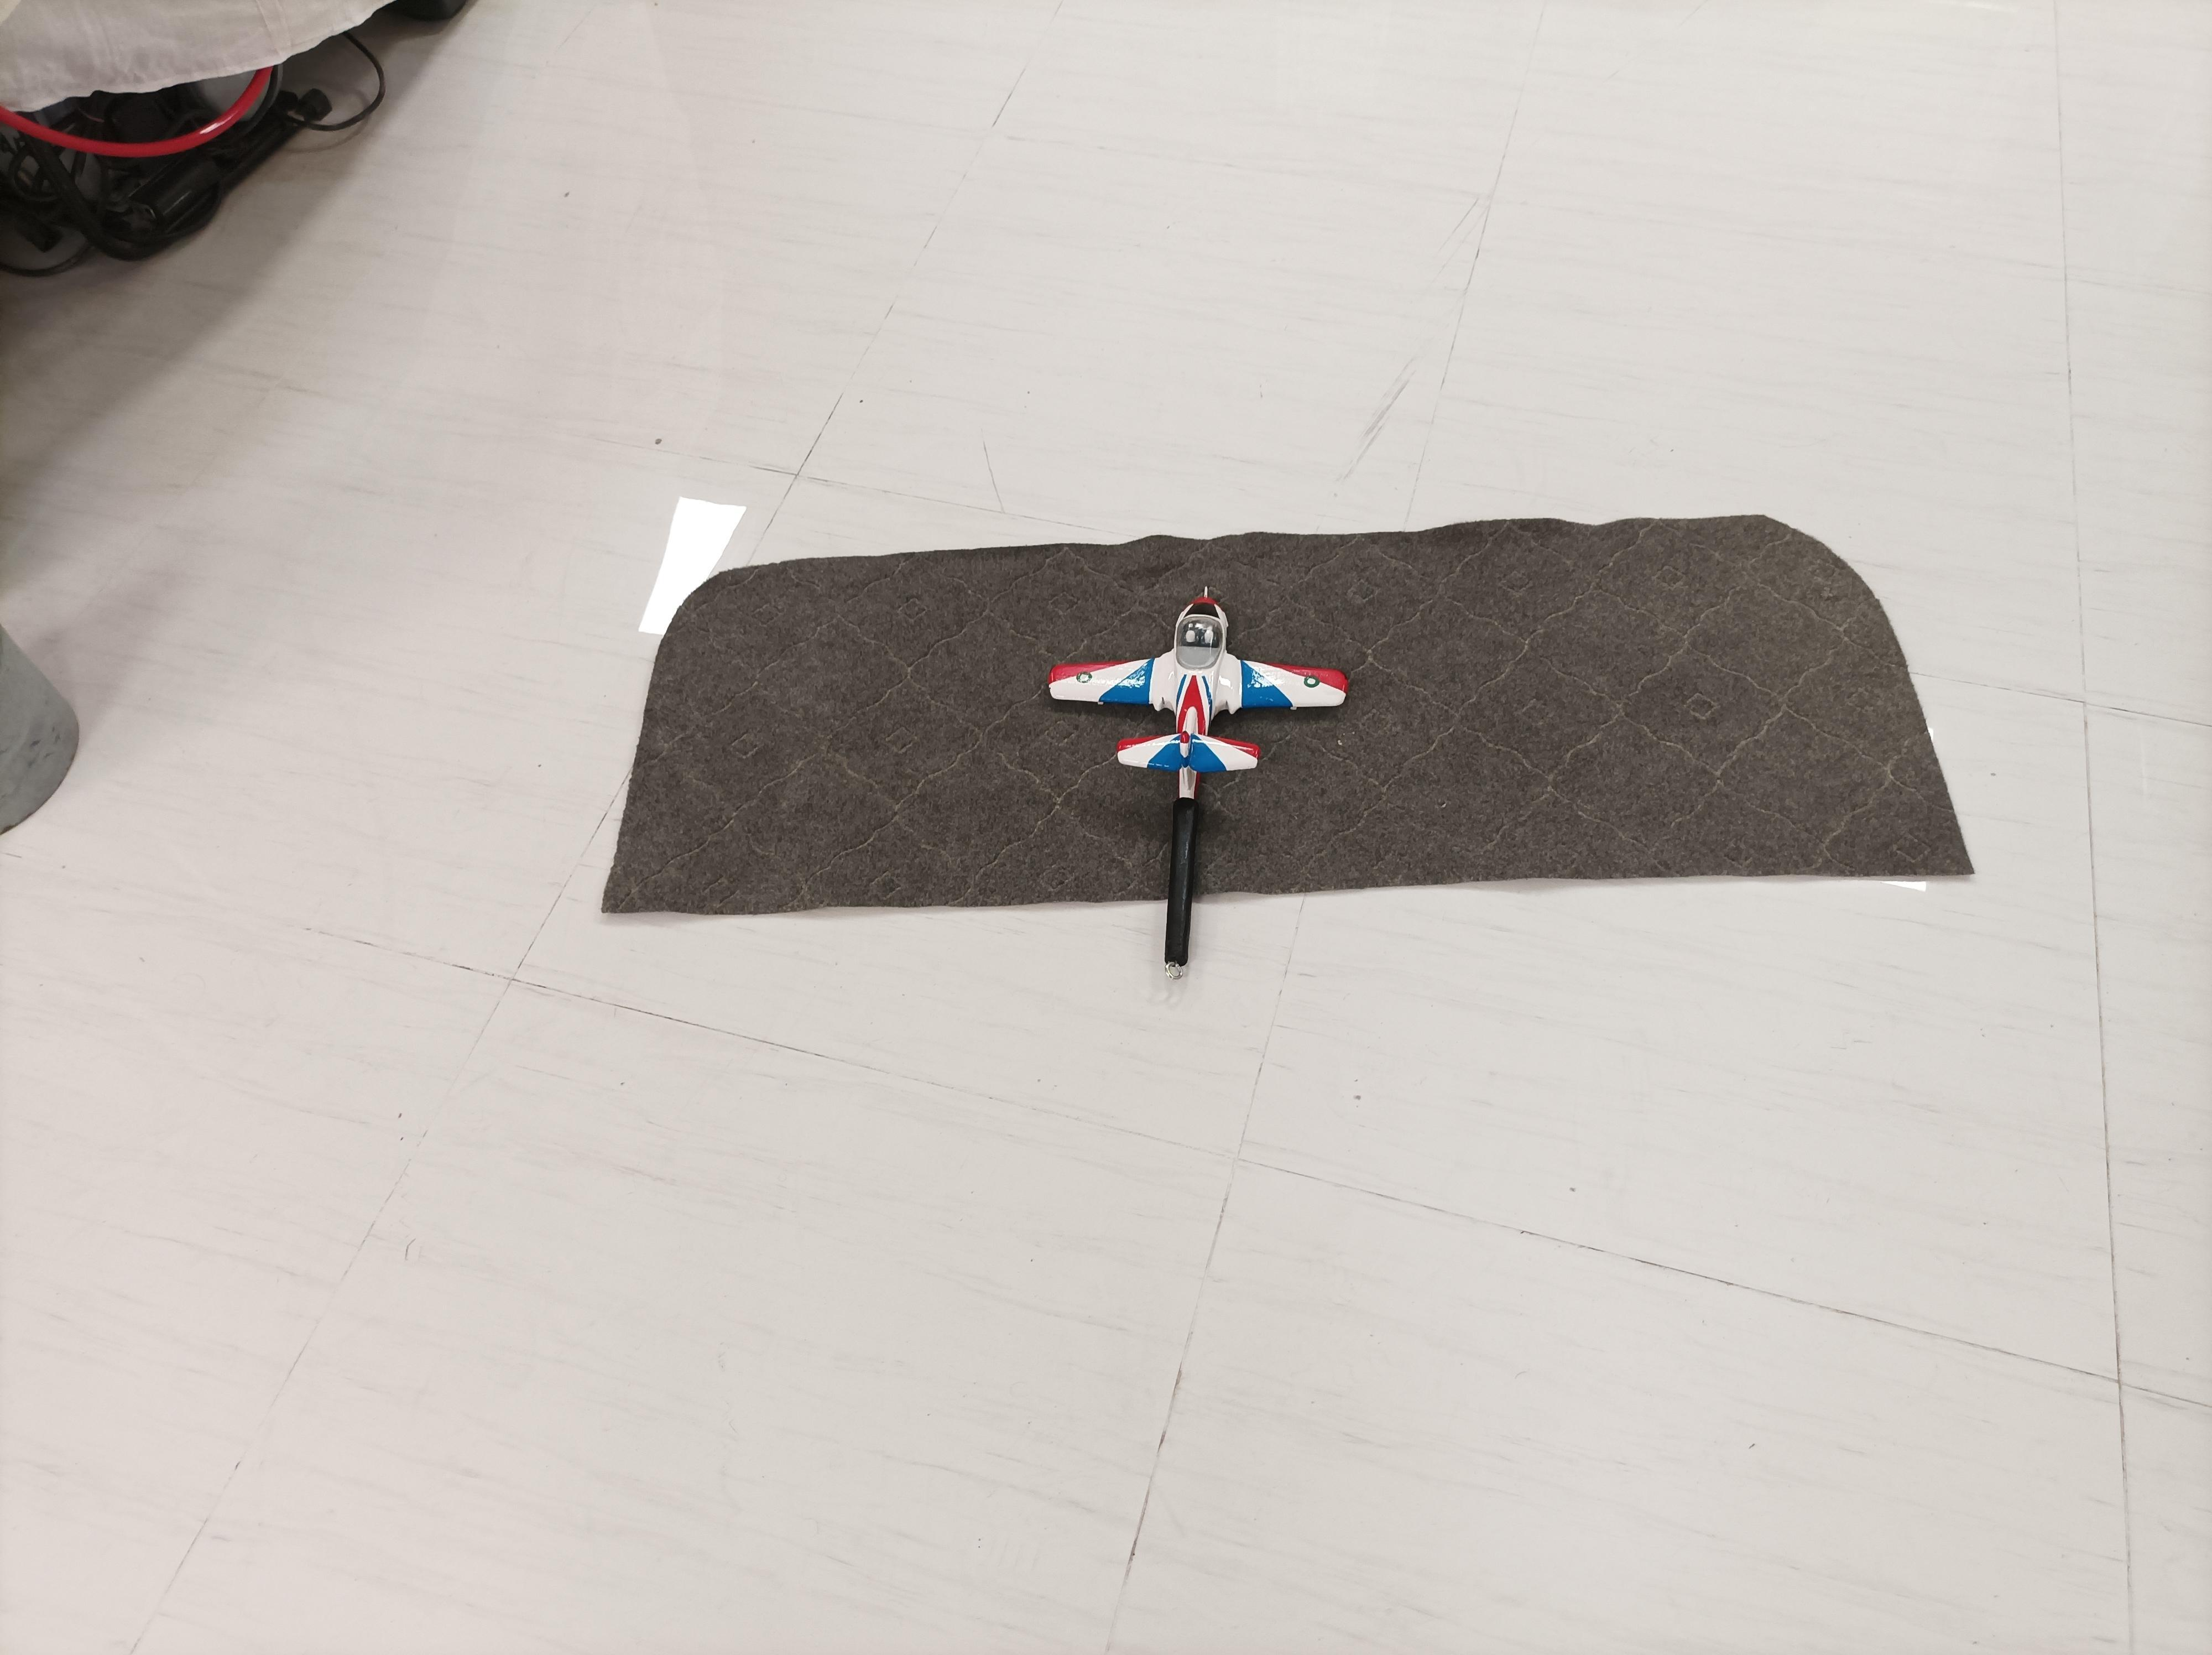Airplane: (1023, 575, 1371, 814)
